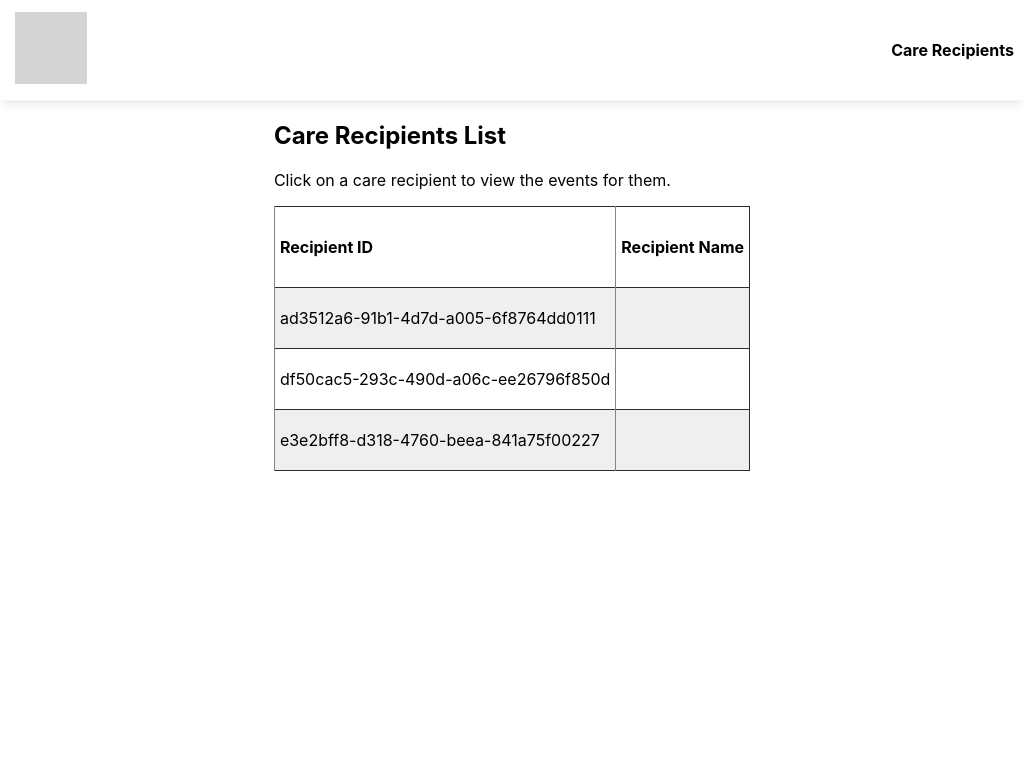
Scenario: navigates to the recipient event component
Click the text "df50cac5-293c-490d-a06c-ee26796f850d" at (445, 379), box [274,348,616,409]
(page scrolled)
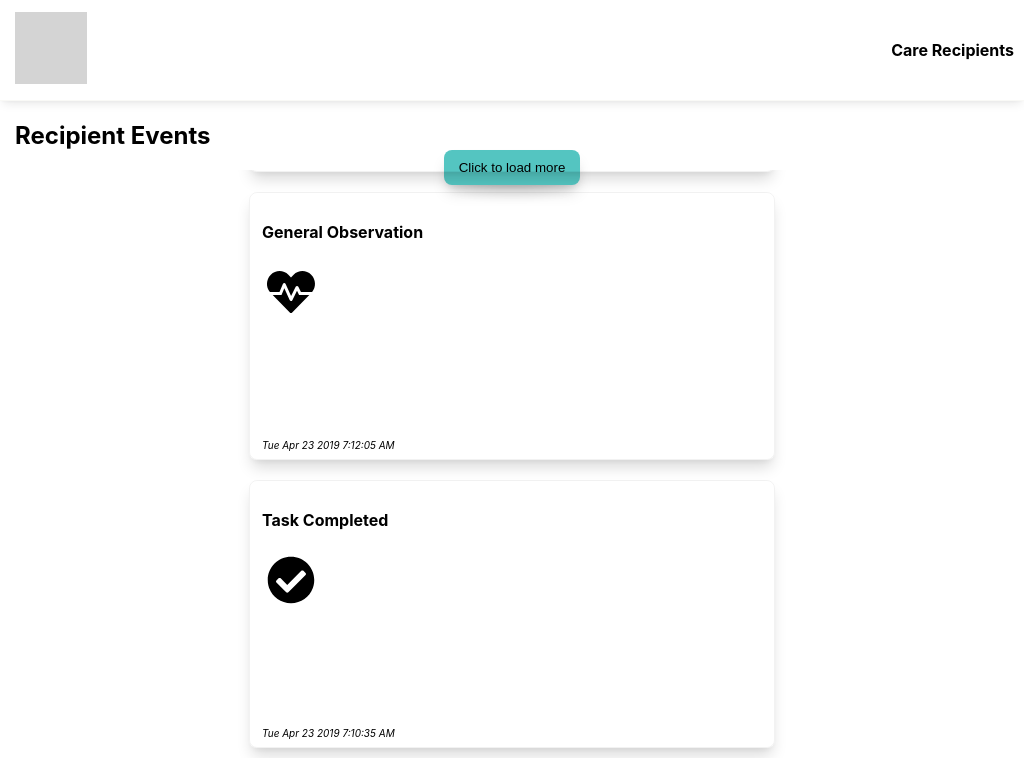
Result: the heading "Recipient Events" is shown at [15,121,211,150]
Result: the heading "task completed" is shown at [262,510,388,530]
